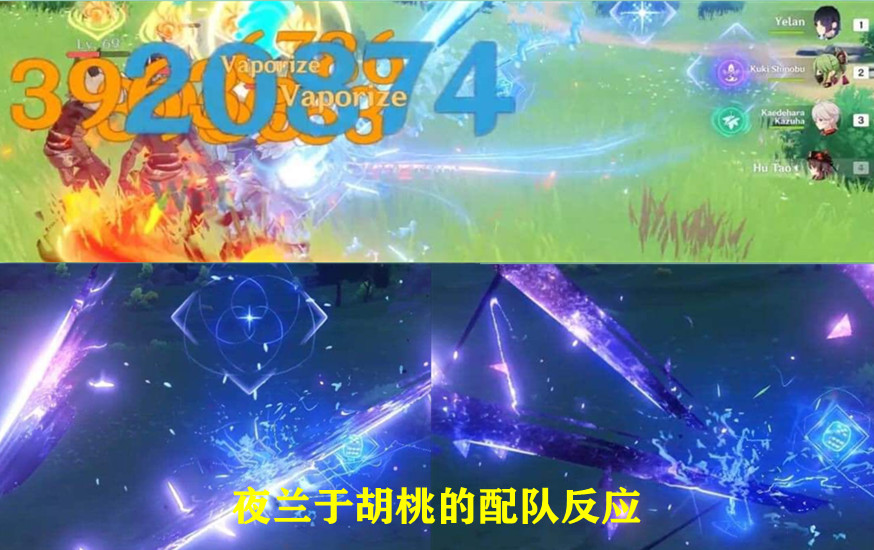夜兰: (810, 3, 850, 42)
